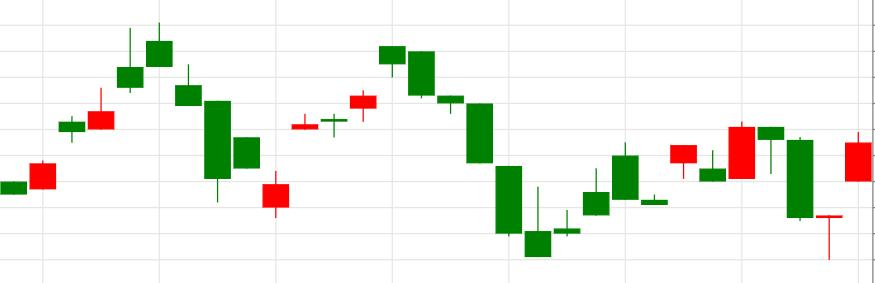inverse_hammer_rise: (378, 45, 551, 258)
